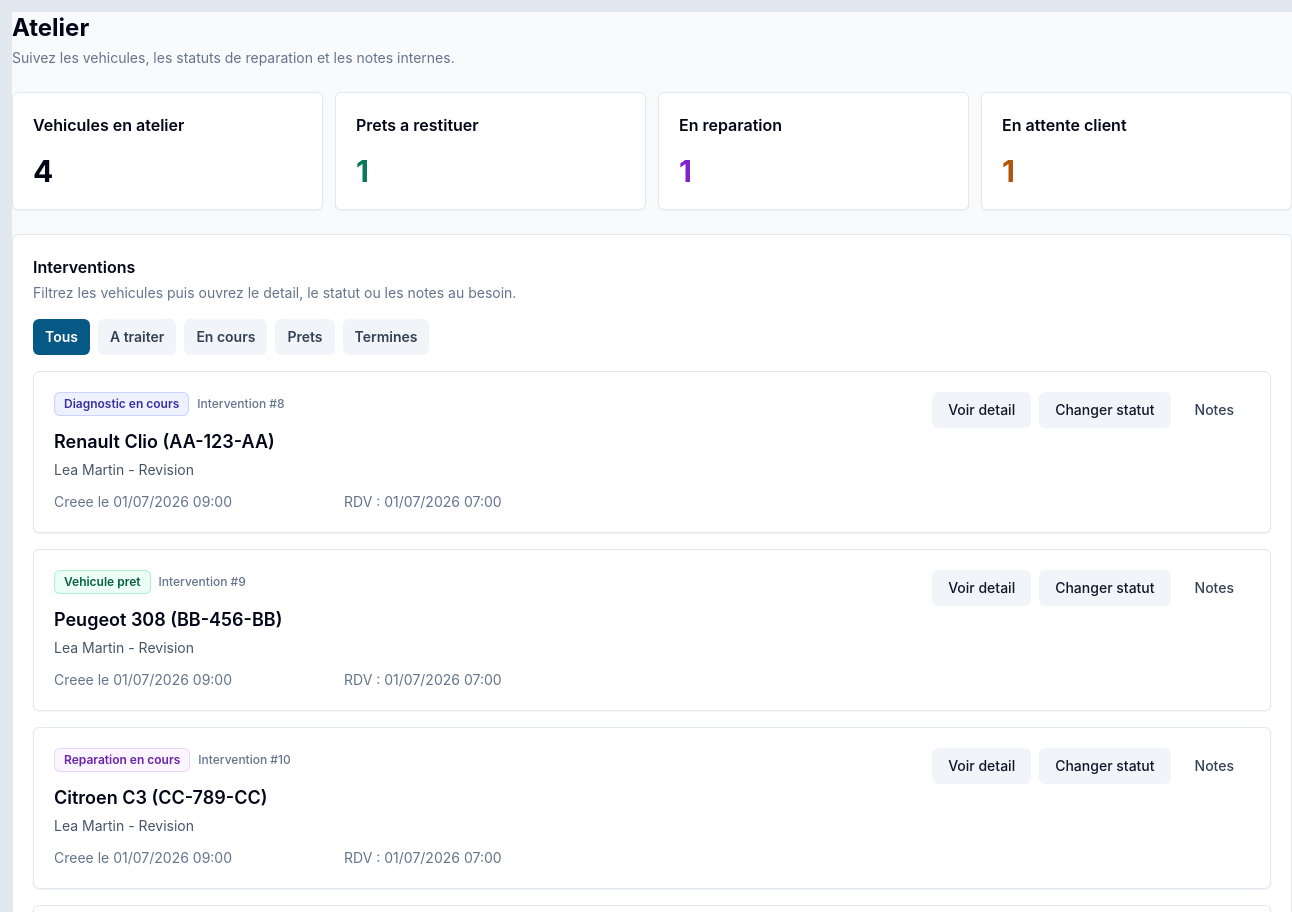
InterventionsPage › ferme le panneau de statut au clic sur Annuler
Click the button "Changer statut" in the row of "Diagnostic en cours" at (1105, 410), box left=1039, top=392, right=1171, bottom=428
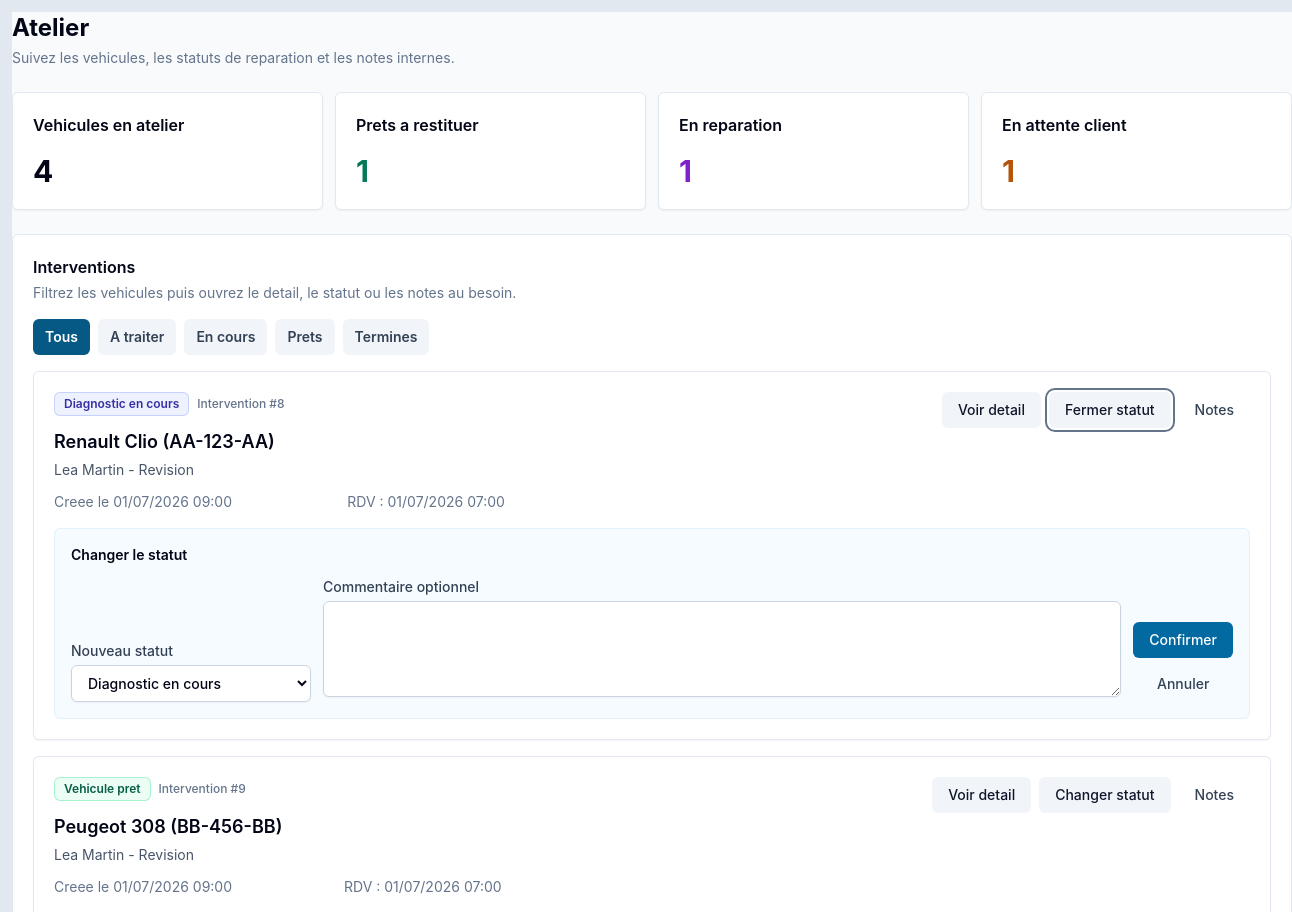
Click the button "Annuler" at (1183, 684), box left=1133, top=666, right=1233, bottom=702
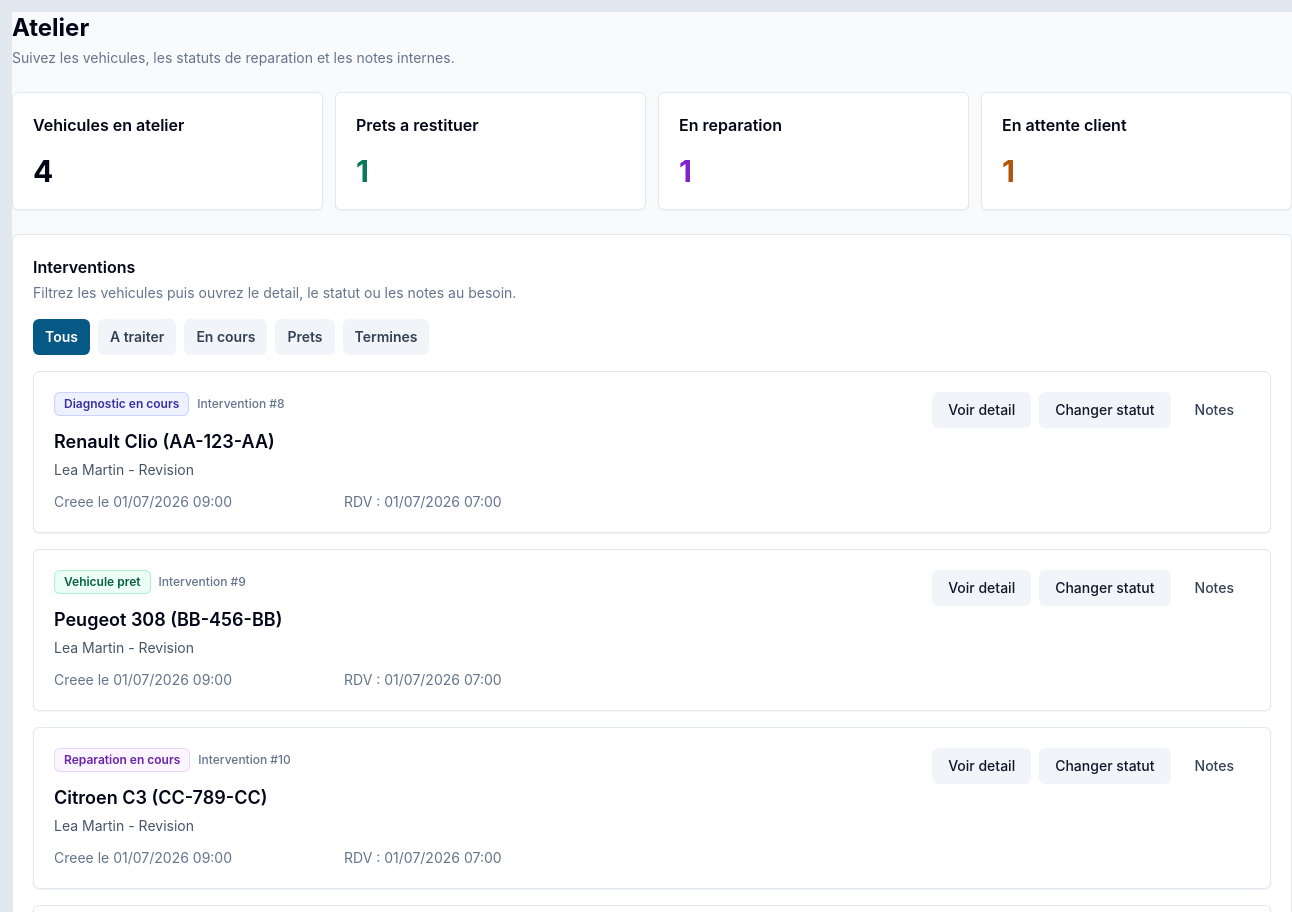
Check: the label labelled "Nouveau statut" is gone
